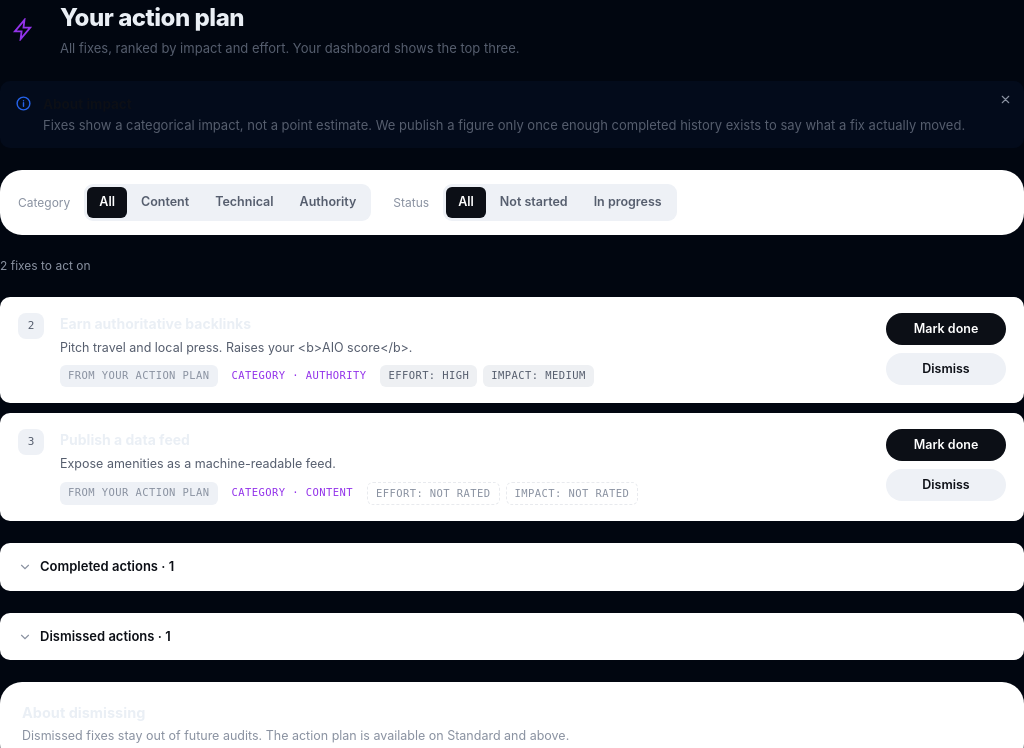
Test case: fixes page › restores a dismissed action by superseding the decision, never deleting it
The image size is (1024, 748).
Click the button with test id "fix-history-dismissed-trigger". click: (105, 636)
box: [0,613,1023,660]
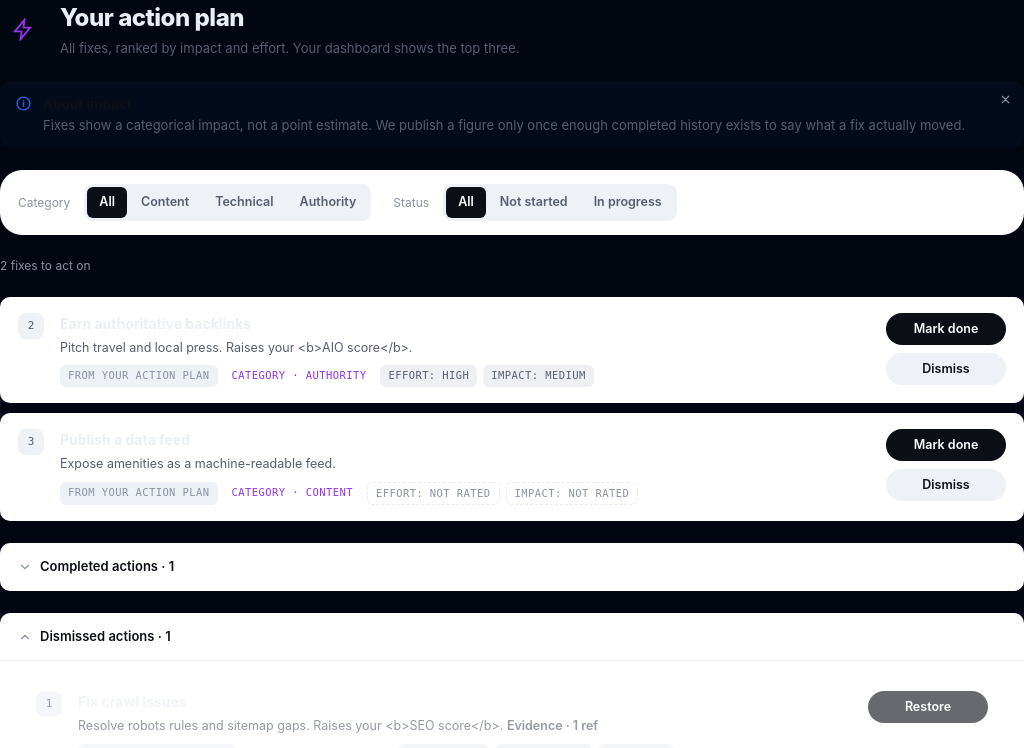
Click the button "Restore". click: (928, 707)
box: [868,691,988,723]
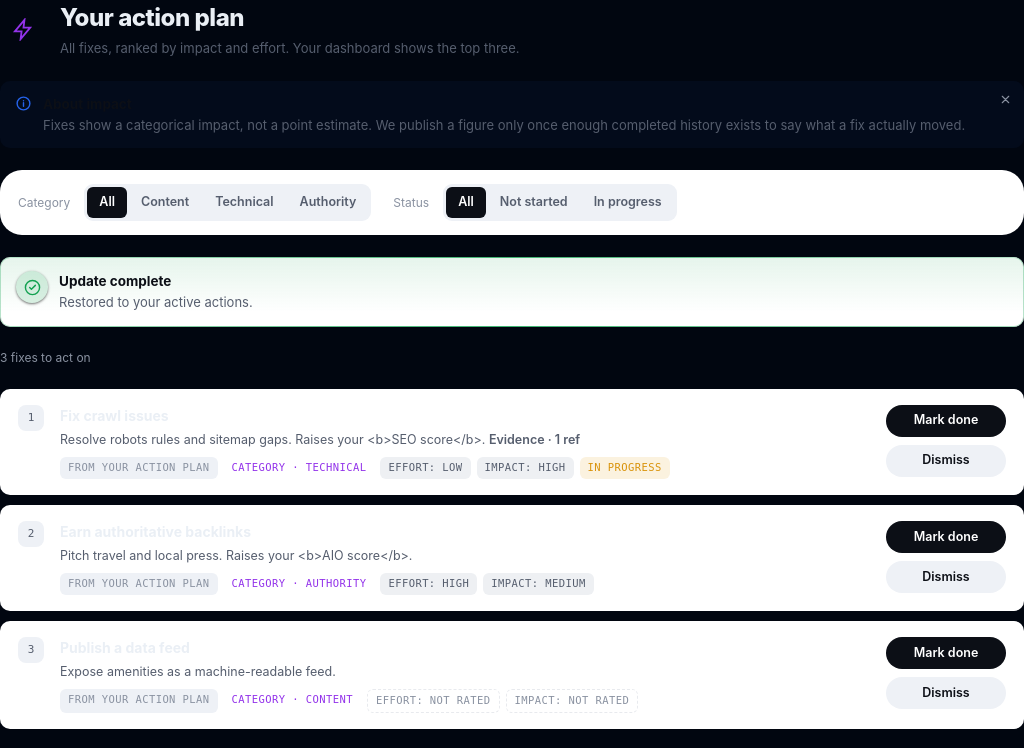
Expected: the element with test id "fix-advisor-action-1" is shown, [0,389,1023,495]
Expected: the button with test id "fix-history-dismissed-trigger" is gone
Expected: the text "Restored to your active actions." is shown, [59,294,253,310]
